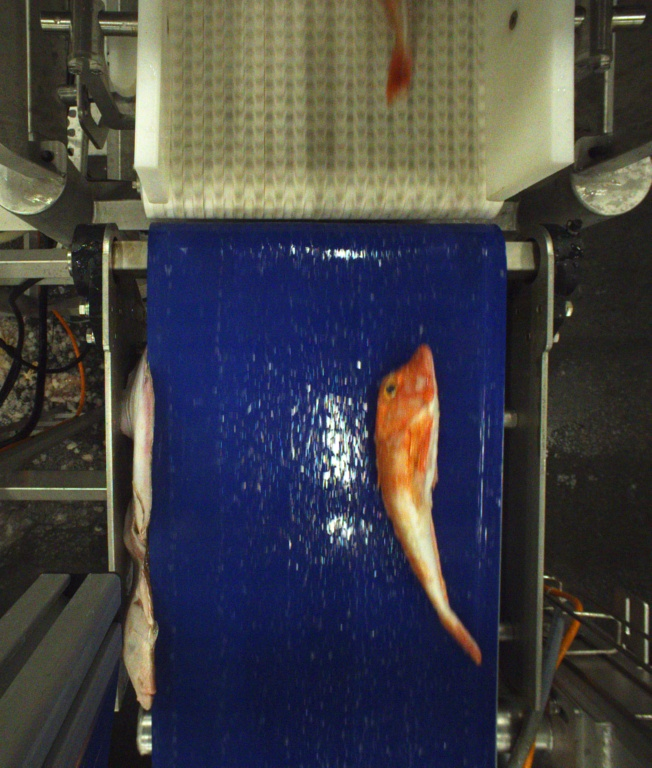GUU: (372, 338, 487, 669)
